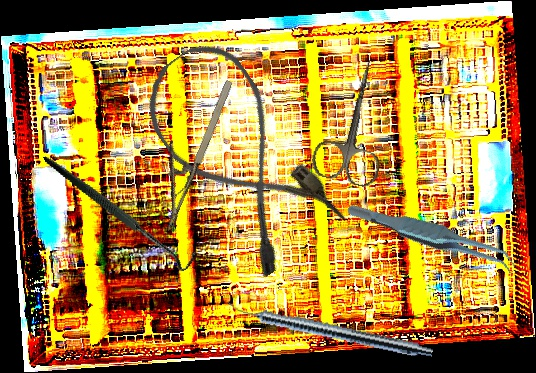Cannula: (127, 29, 350, 282)
Handpiece: (225, 298, 435, 361)
Hook Surgical: (43, 115, 201, 305)
Iris Scissors: (308, 52, 404, 190)
Needle Holder: (136, 69, 238, 233)
Tissue Forceps: (345, 170, 521, 303)
